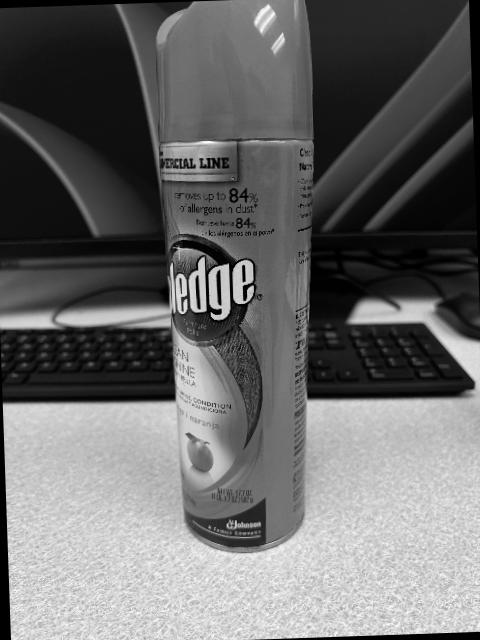Pledge: (155, 0, 314, 554)
